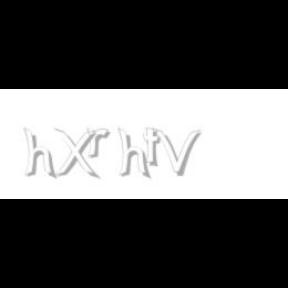V: (153, 128, 201, 176)
X: (53, 128, 97, 180)
h: (23, 128, 58, 180), (118, 128, 152, 180)
r: (86, 128, 114, 158)
t: (143, 128, 165, 168)
